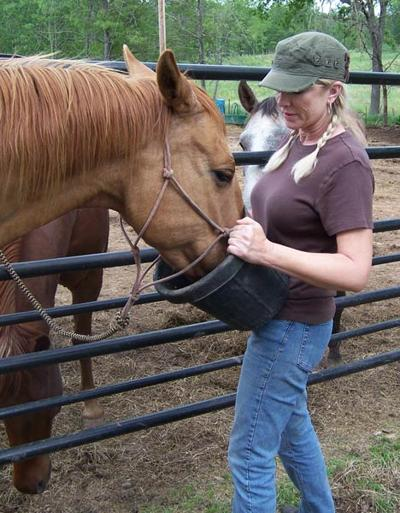person: (226, 32, 376, 513)
